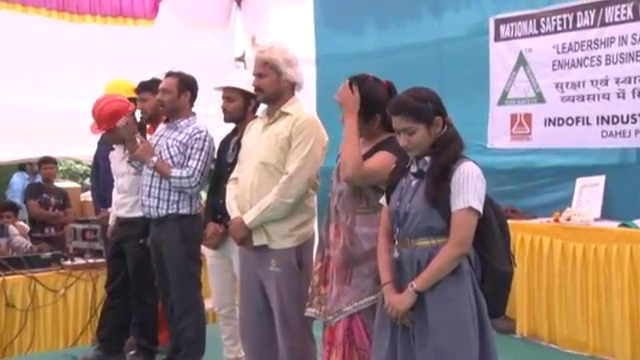helmet: (86, 92, 137, 134), (209, 62, 255, 100), (102, 79, 137, 100)
helmet_off: (385, 83, 457, 170), (243, 46, 309, 109), (146, 73, 199, 129), (341, 77, 391, 124), (128, 81, 157, 119), (37, 159, 58, 188), (0, 200, 22, 227), (20, 159, 39, 179)
helmet_on: (87, 85, 146, 152), (210, 69, 254, 130)
person: (374, 81, 514, 360), (224, 42, 324, 360), (133, 78, 217, 357), (325, 77, 400, 359), (85, 87, 163, 357), (205, 64, 257, 359), (21, 160, 71, 247), (0, 201, 56, 258), (4, 160, 41, 207)
